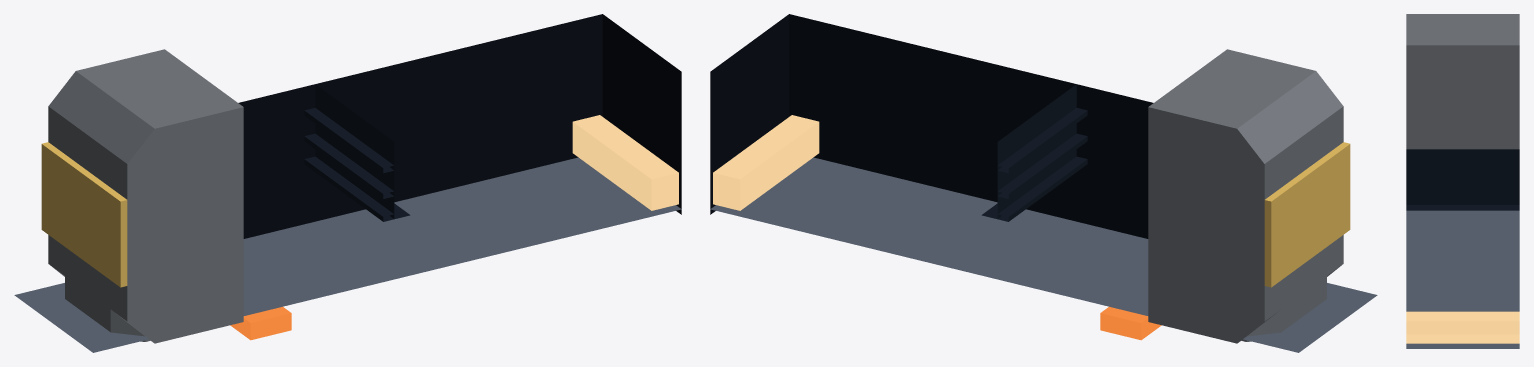
The model's file is RS_ServiceBay.glb.
3 renders of one model, left to right at view 1: azimuth 30°, elevation 25°; view 2: azimuth 150°, elevation 25°; view 3: azimuth 270°, elevation 25°, orthographic. The views are drawn at different scales.
Visible parts, largest first — view 1: RS_ServiceBay__shell, RS_ServiceBay__header, RS_ServiceBay__floor, RS_ServiceBay__hazard, RS_ServiceBay__shutter, RS_ServiceBay__back_light, RS_ServiceBay__jamb, RS_ServiceBay__ceiling_light; view 2: RS_ServiceBay__shell, RS_ServiceBay__header, RS_ServiceBay__floor, RS_ServiceBay__hazard, RS_ServiceBay__shutter, RS_ServiceBay__back_light, RS_ServiceBay__jamb, RS_ServiceBay__ceiling_light; view 3: RS_ServiceBay__header, RS_ServiceBay__floor, RS_ServiceBay__shutter, RS_ServiceBay__jamb, RS_ServiceBay__back_light.
Boxes of the visible parts, left/top/right/bottom form: RS_ServiceBay__shell: left=238, top=14, right=681, bottom=238; RS_ServiceBay__header: left=48, top=49, right=243, bottom=343; RS_ServiceBay__floor: left=14, top=157, right=681, bottom=352; RS_ServiceBay__hazard: left=41, top=142, right=127, bottom=287; RS_ServiceBay__shutter: left=304, top=84, right=410, bottom=221; RS_ServiceBay__back_light: left=572, top=115, right=678, bottom=210; RS_ServiceBay__jamb: left=65, top=259, right=150, bottom=341; RS_ServiceBay__ceiling_light: left=230, top=306, right=291, bottom=340; RS_ServiceBay__shell: left=710, top=14, right=1153, bottom=238; RS_ServiceBay__header: left=1148, top=49, right=1343, bottom=343; RS_ServiceBay__floor: left=710, top=157, right=1377, bottom=352; RS_ServiceBay__hazard: left=1264, top=142, right=1350, bottom=287; RS_ServiceBay__shutter: left=981, top=84, right=1087, bottom=221; RS_ServiceBay__back_light: left=713, top=115, right=819, bottom=210; RS_ServiceBay__jamb: left=1241, top=257, right=1326, bottom=341; RS_ServiceBay__ceiling_light: left=1100, top=306, right=1161, bottom=340; RS_ServiceBay__header: left=1406, top=14, right=1519, bottom=149; RS_ServiceBay__floor: left=1406, top=210, right=1519, bottom=348; RS_ServiceBay__shutter: left=1406, top=149, right=1519, bottom=210; RS_ServiceBay__jamb: left=1412, top=96, right=1513, bottom=149; RS_ServiceBay__back_light: left=1406, top=311, right=1519, bottom=343.
Bounding box in the file's own units: 4.3 × 1.64 × 1.
